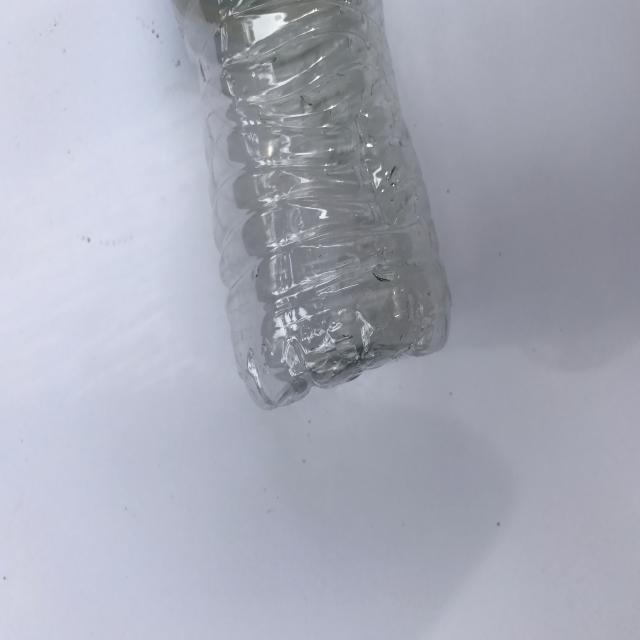plastic: (168, 0, 452, 411)
